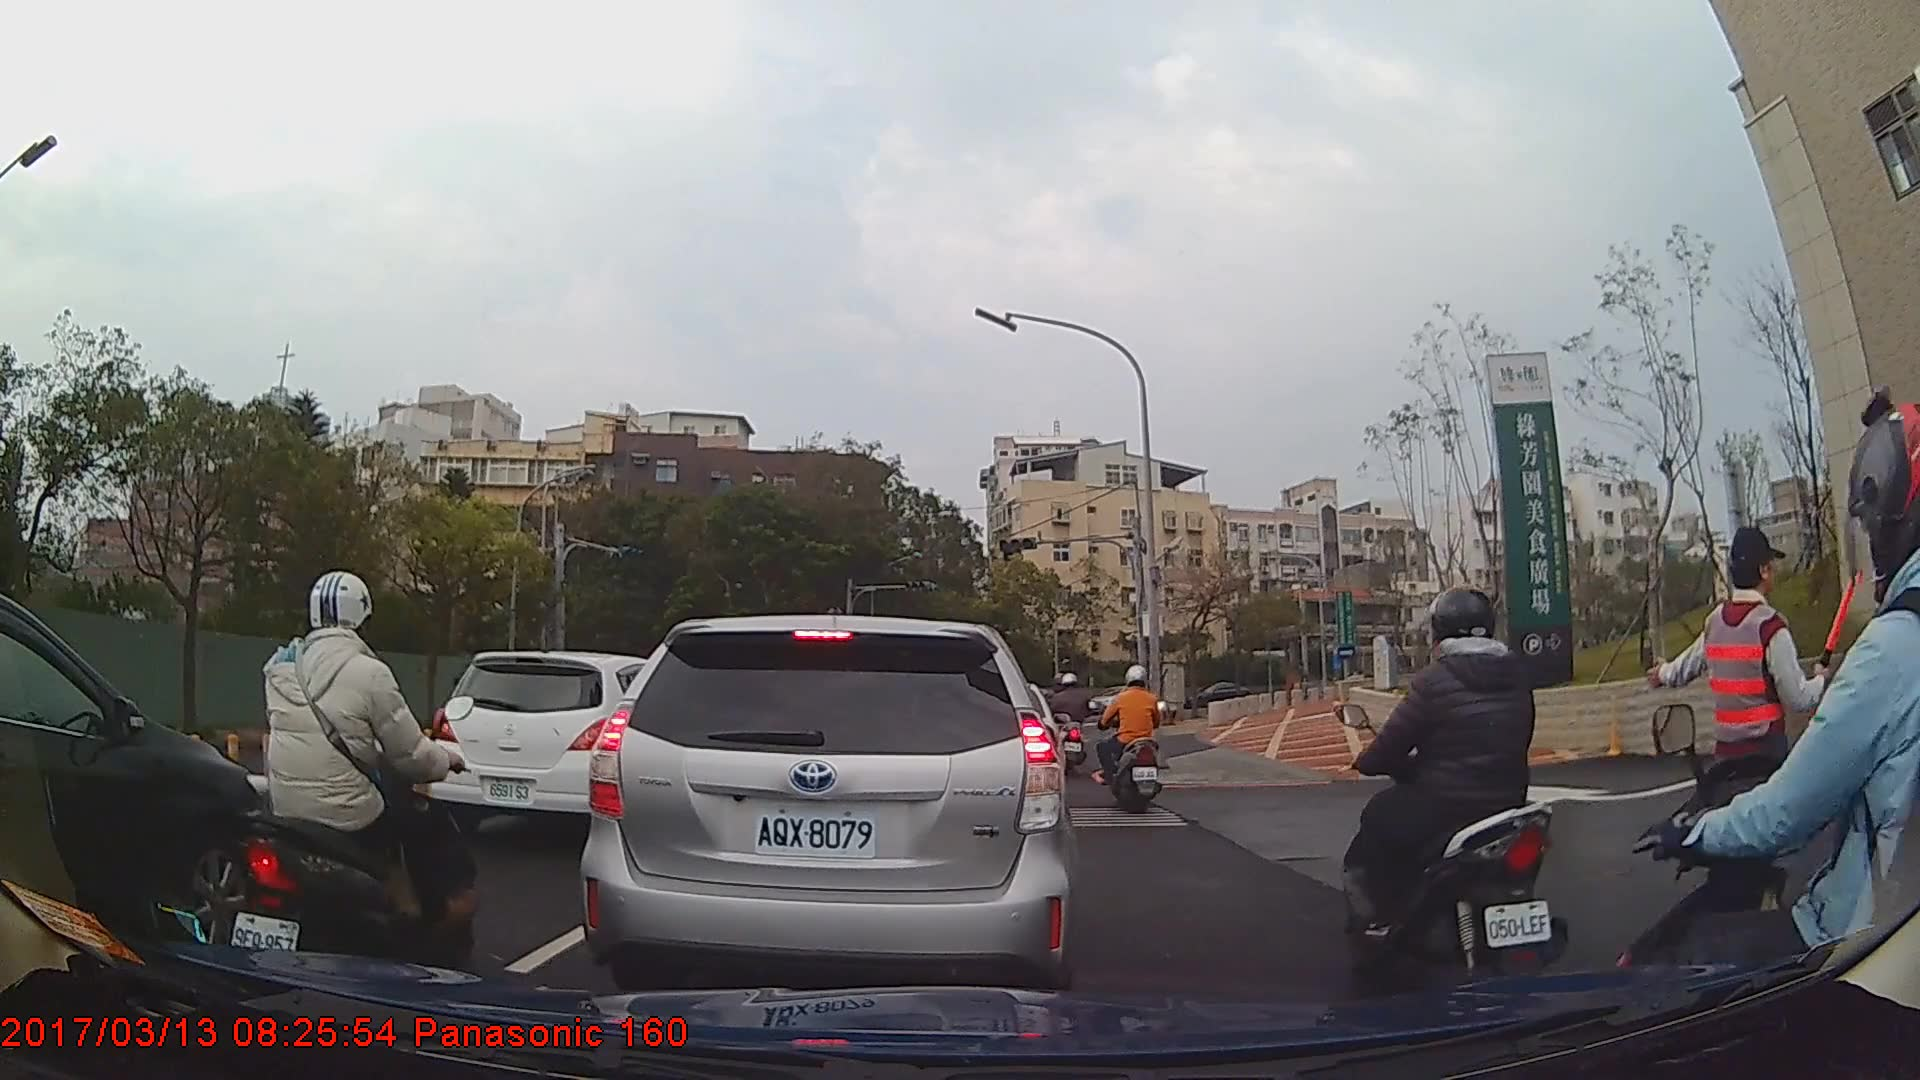pedestrian: (1646, 525, 1863, 984)
rider: (1610, 400, 1920, 1080), (225, 569, 486, 1004), (1344, 581, 1563, 991), (1095, 660, 1167, 812), (1051, 669, 1093, 774)
vehicle: (574, 613, 1075, 991), (0, 590, 294, 964), (428, 649, 681, 840), (1183, 679, 1253, 717)
